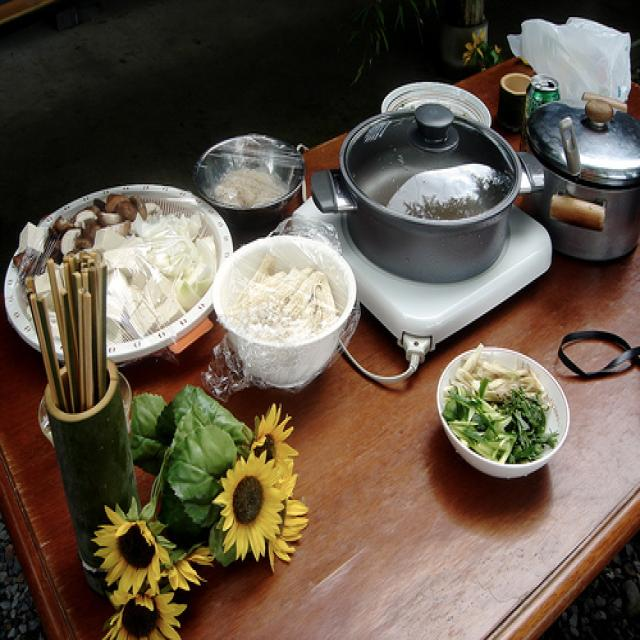sunflower: (86, 495, 176, 596), (218, 454, 292, 567), (100, 580, 196, 640), (240, 401, 300, 488)
